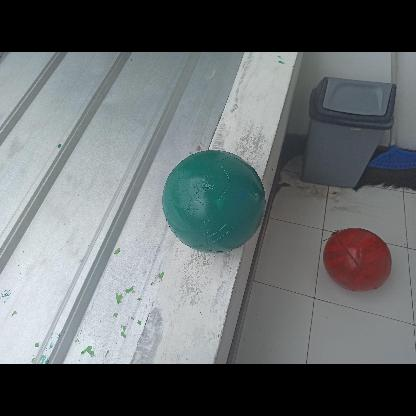green_ball: (159, 149, 265, 255)
